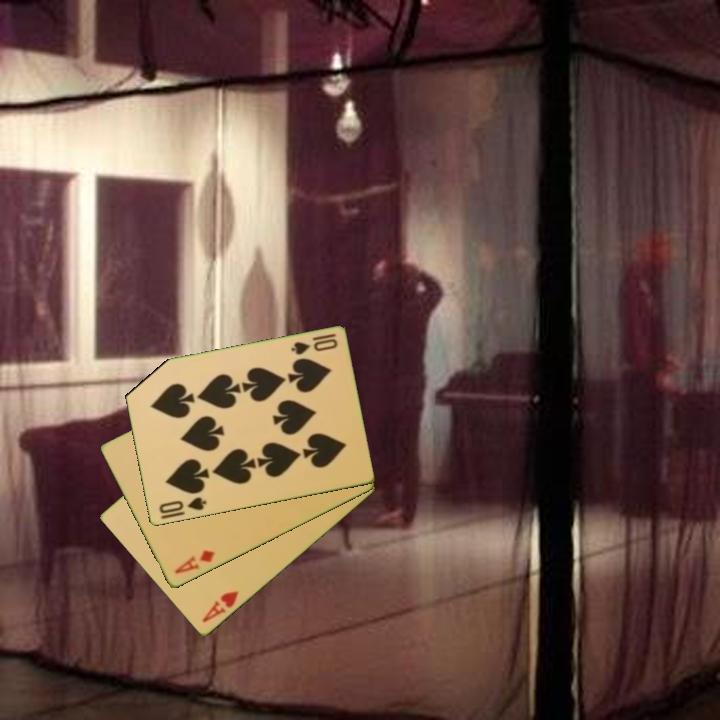10s: (287, 330, 340, 358), (155, 494, 209, 517)
Ad: (171, 546, 218, 577)
Ah: (198, 588, 241, 626)
